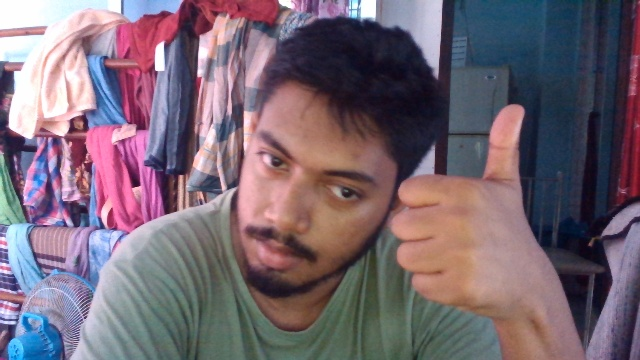yes: (390, 91, 533, 319)
